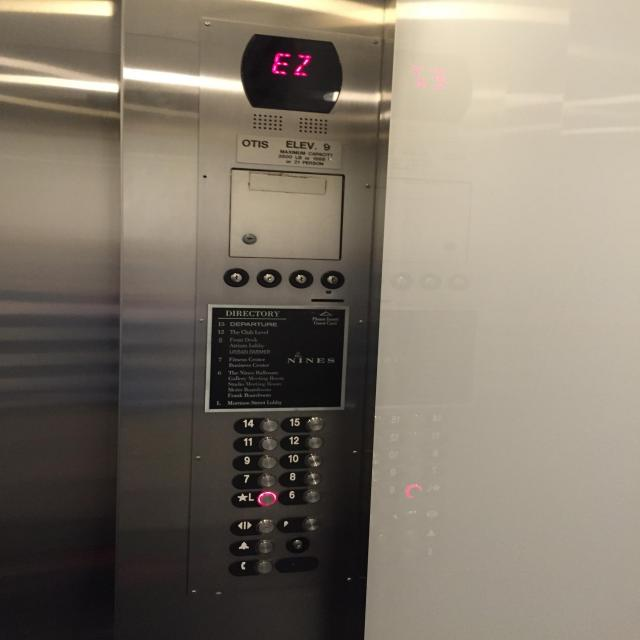10: (278, 451, 324, 469)
11: (231, 434, 278, 453)
12: (278, 432, 326, 450)
14: (232, 416, 280, 435)
15: (279, 415, 325, 433)
6: (278, 487, 323, 506)
7: (230, 471, 278, 490)
8: (278, 469, 322, 486)
9: (231, 453, 278, 471)
alarm: (228, 538, 277, 556)
blur: (277, 516, 322, 534)
call: (227, 557, 274, 577)
keyhole: (286, 267, 315, 290), (222, 266, 250, 288), (318, 268, 346, 290), (255, 267, 282, 289), (284, 535, 310, 554), (241, 230, 257, 246)
led: (237, 31, 346, 117)
open: (228, 517, 276, 536)
sL: (230, 490, 278, 508)
